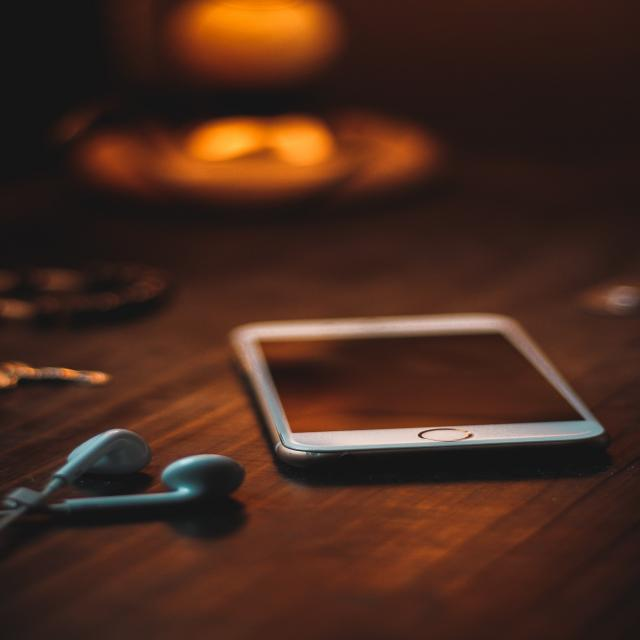headphones: (42, 405, 283, 540)
phone: (237, 308, 604, 462)
